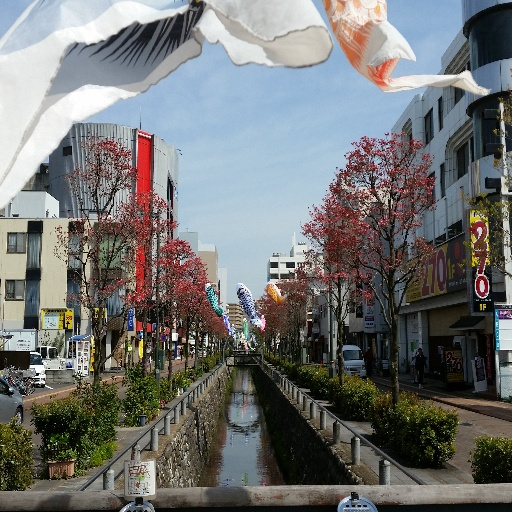hand: (425, 365, 429, 372)
